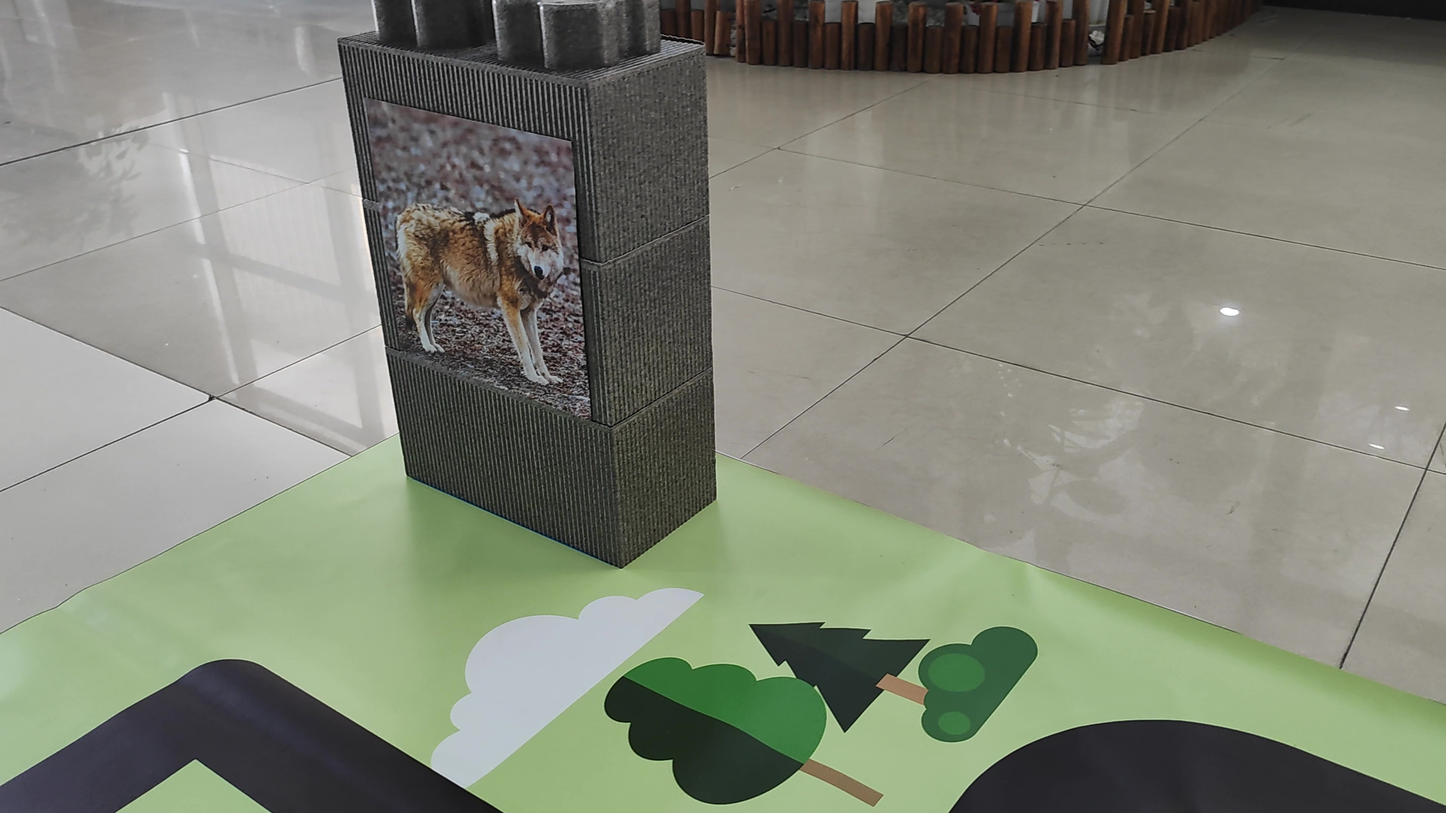wolf: (395, 171, 579, 382)
